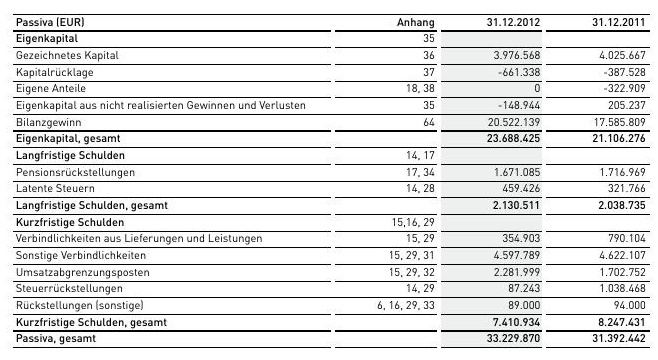table: (0, 0, 658, 360)
